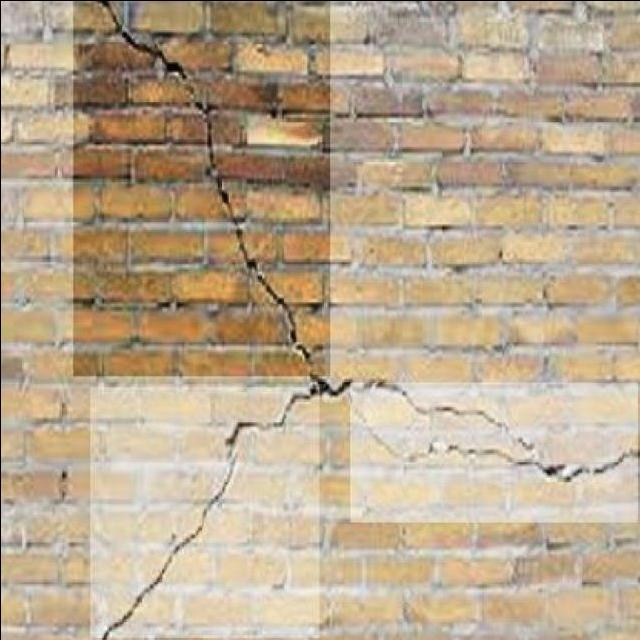SurfaceCrack: (78, 0, 320, 366), (94, 372, 324, 640), (338, 360, 634, 518)
